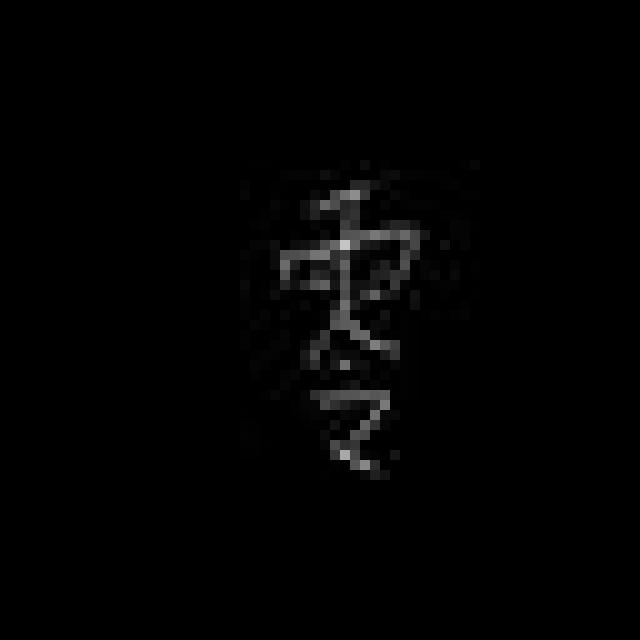0 -zero-: (262, 176, 433, 494)
